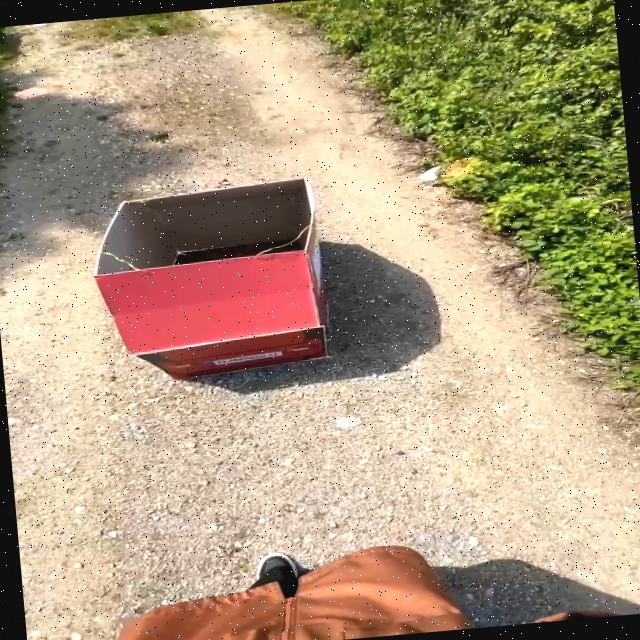red_car: (78, 165, 375, 403)
